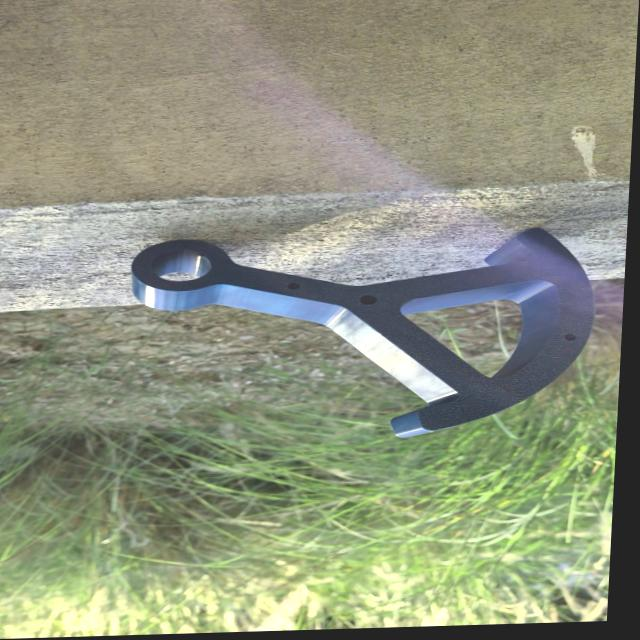haptic: (117, 224, 602, 448)
